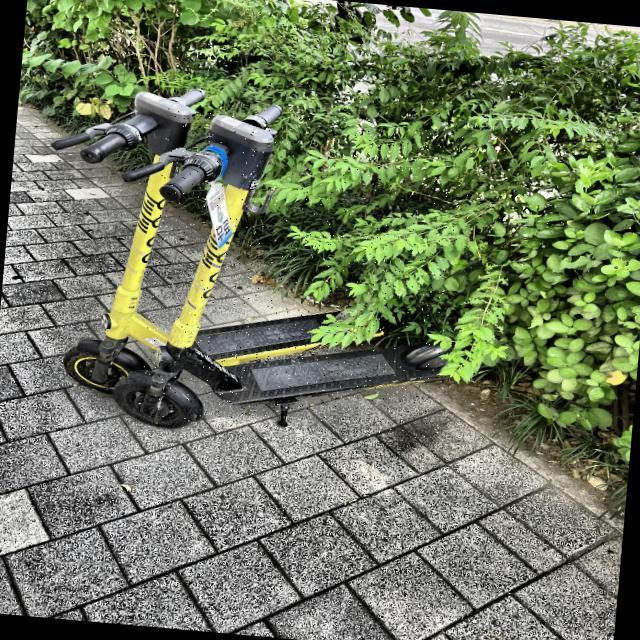bike: (49, 87, 453, 429), (49, 88, 295, 428)
